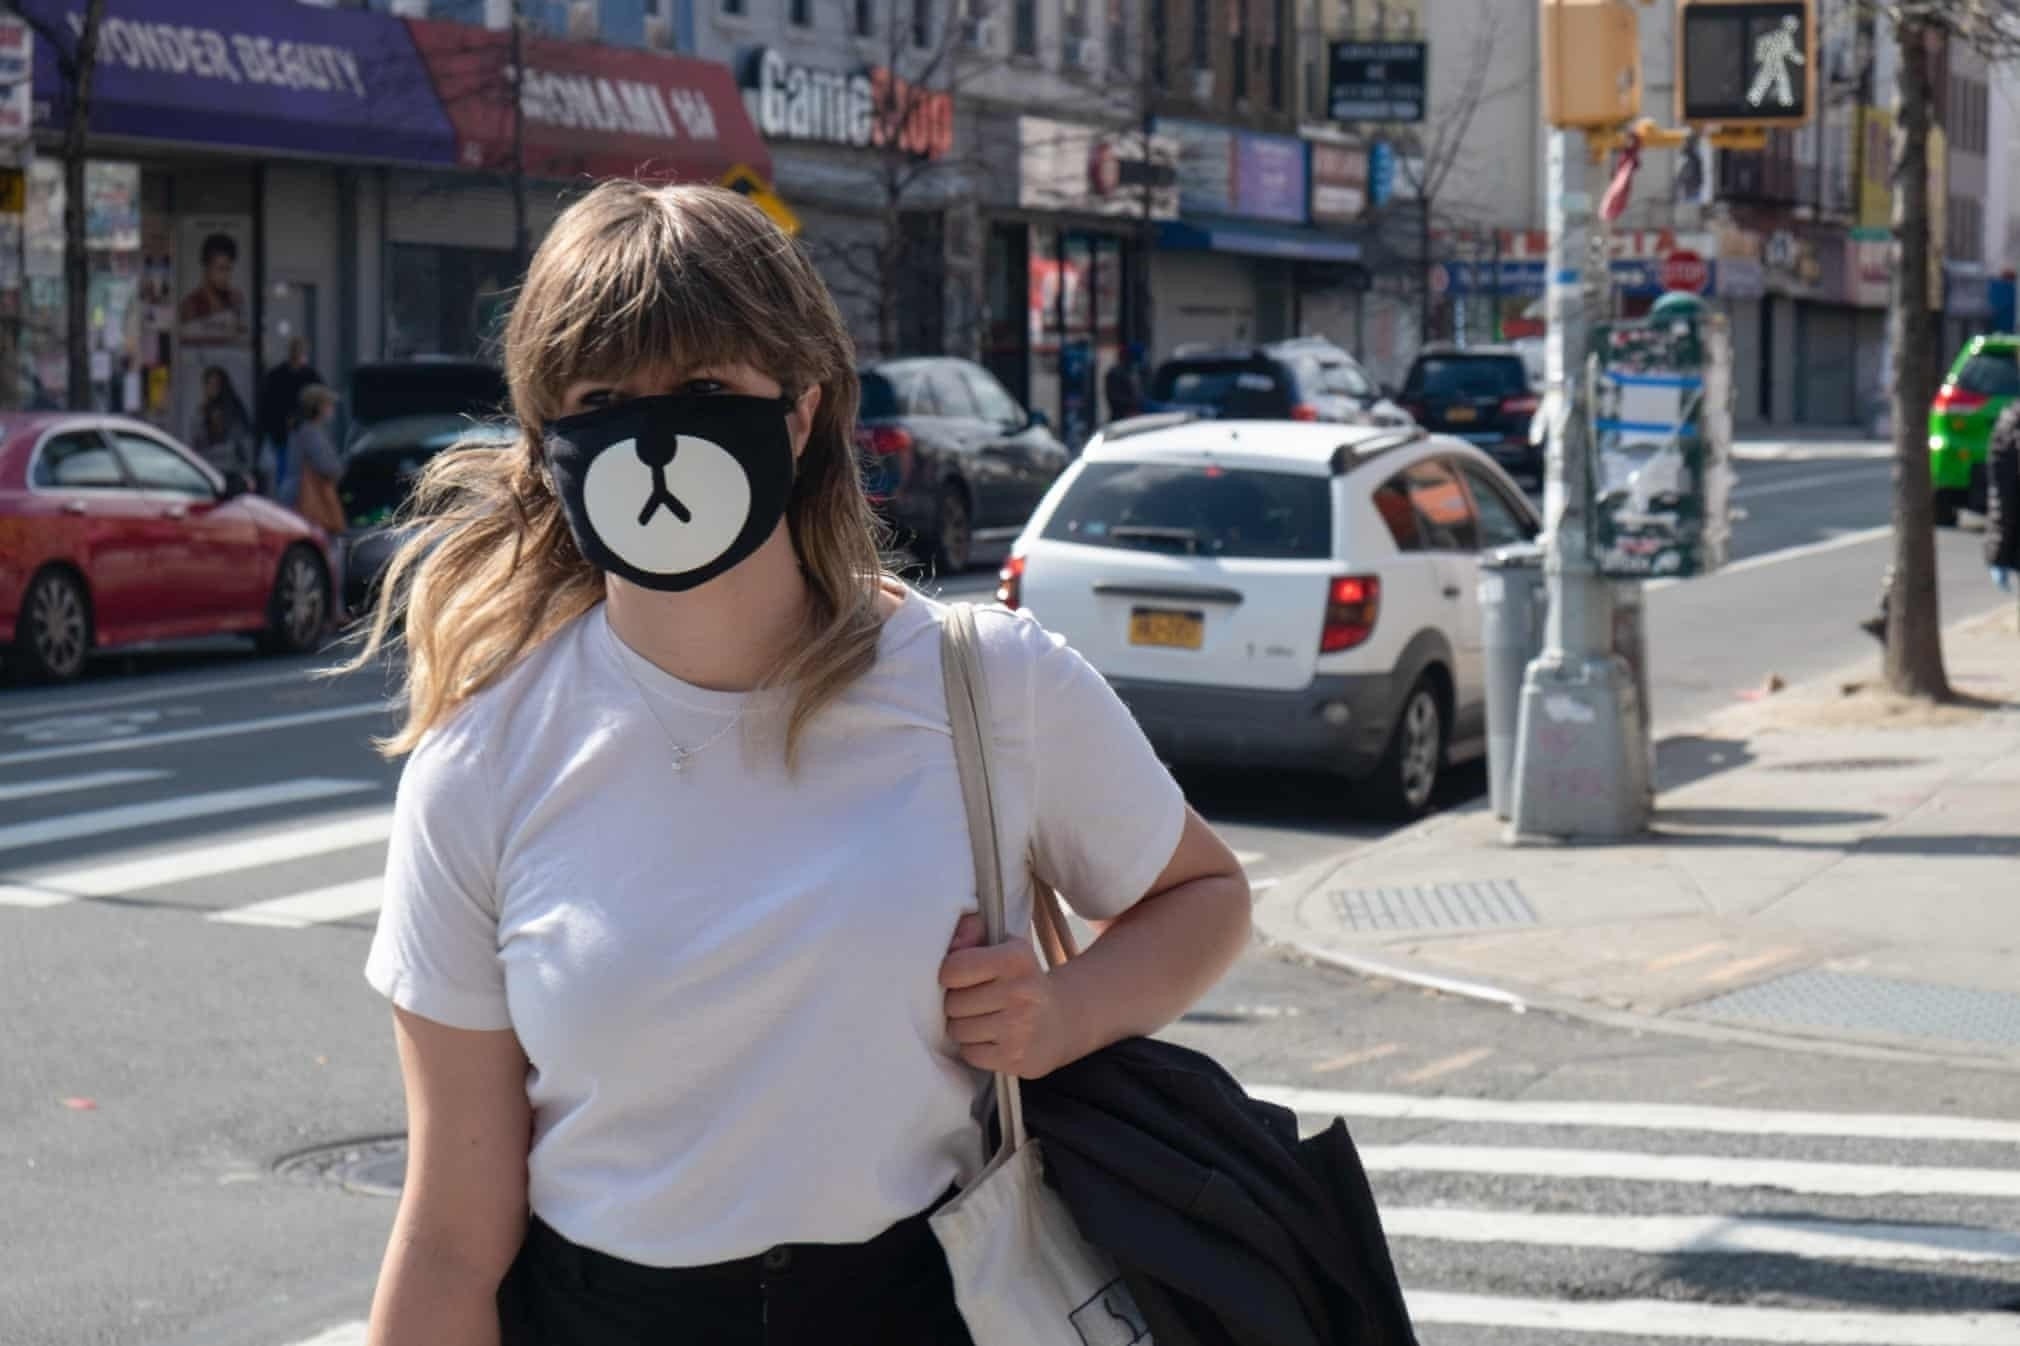face_with_mask: (514, 201, 844, 583)
